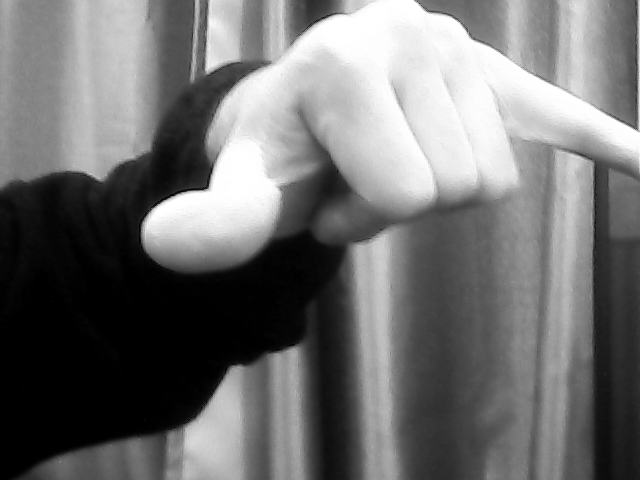aloha: (136, 1, 640, 275)
